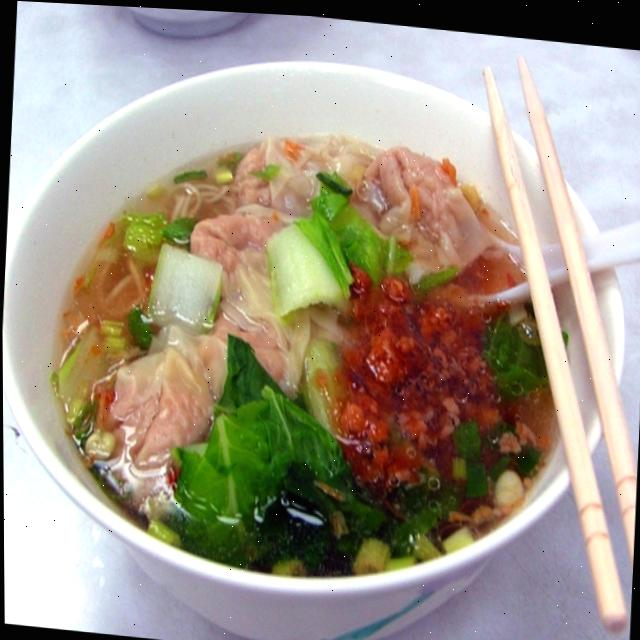面条主食: (0, 18, 631, 639)
